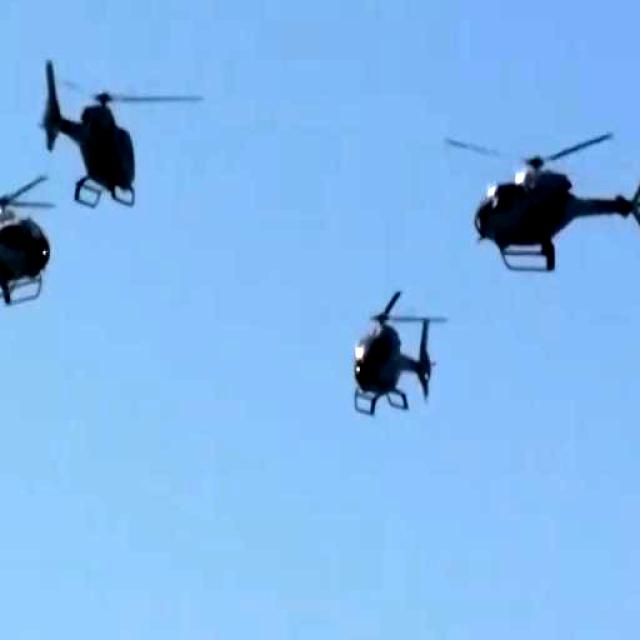drone: (468, 99, 640, 289), (25, 40, 189, 230), (340, 282, 449, 416), (0, 164, 61, 324)
